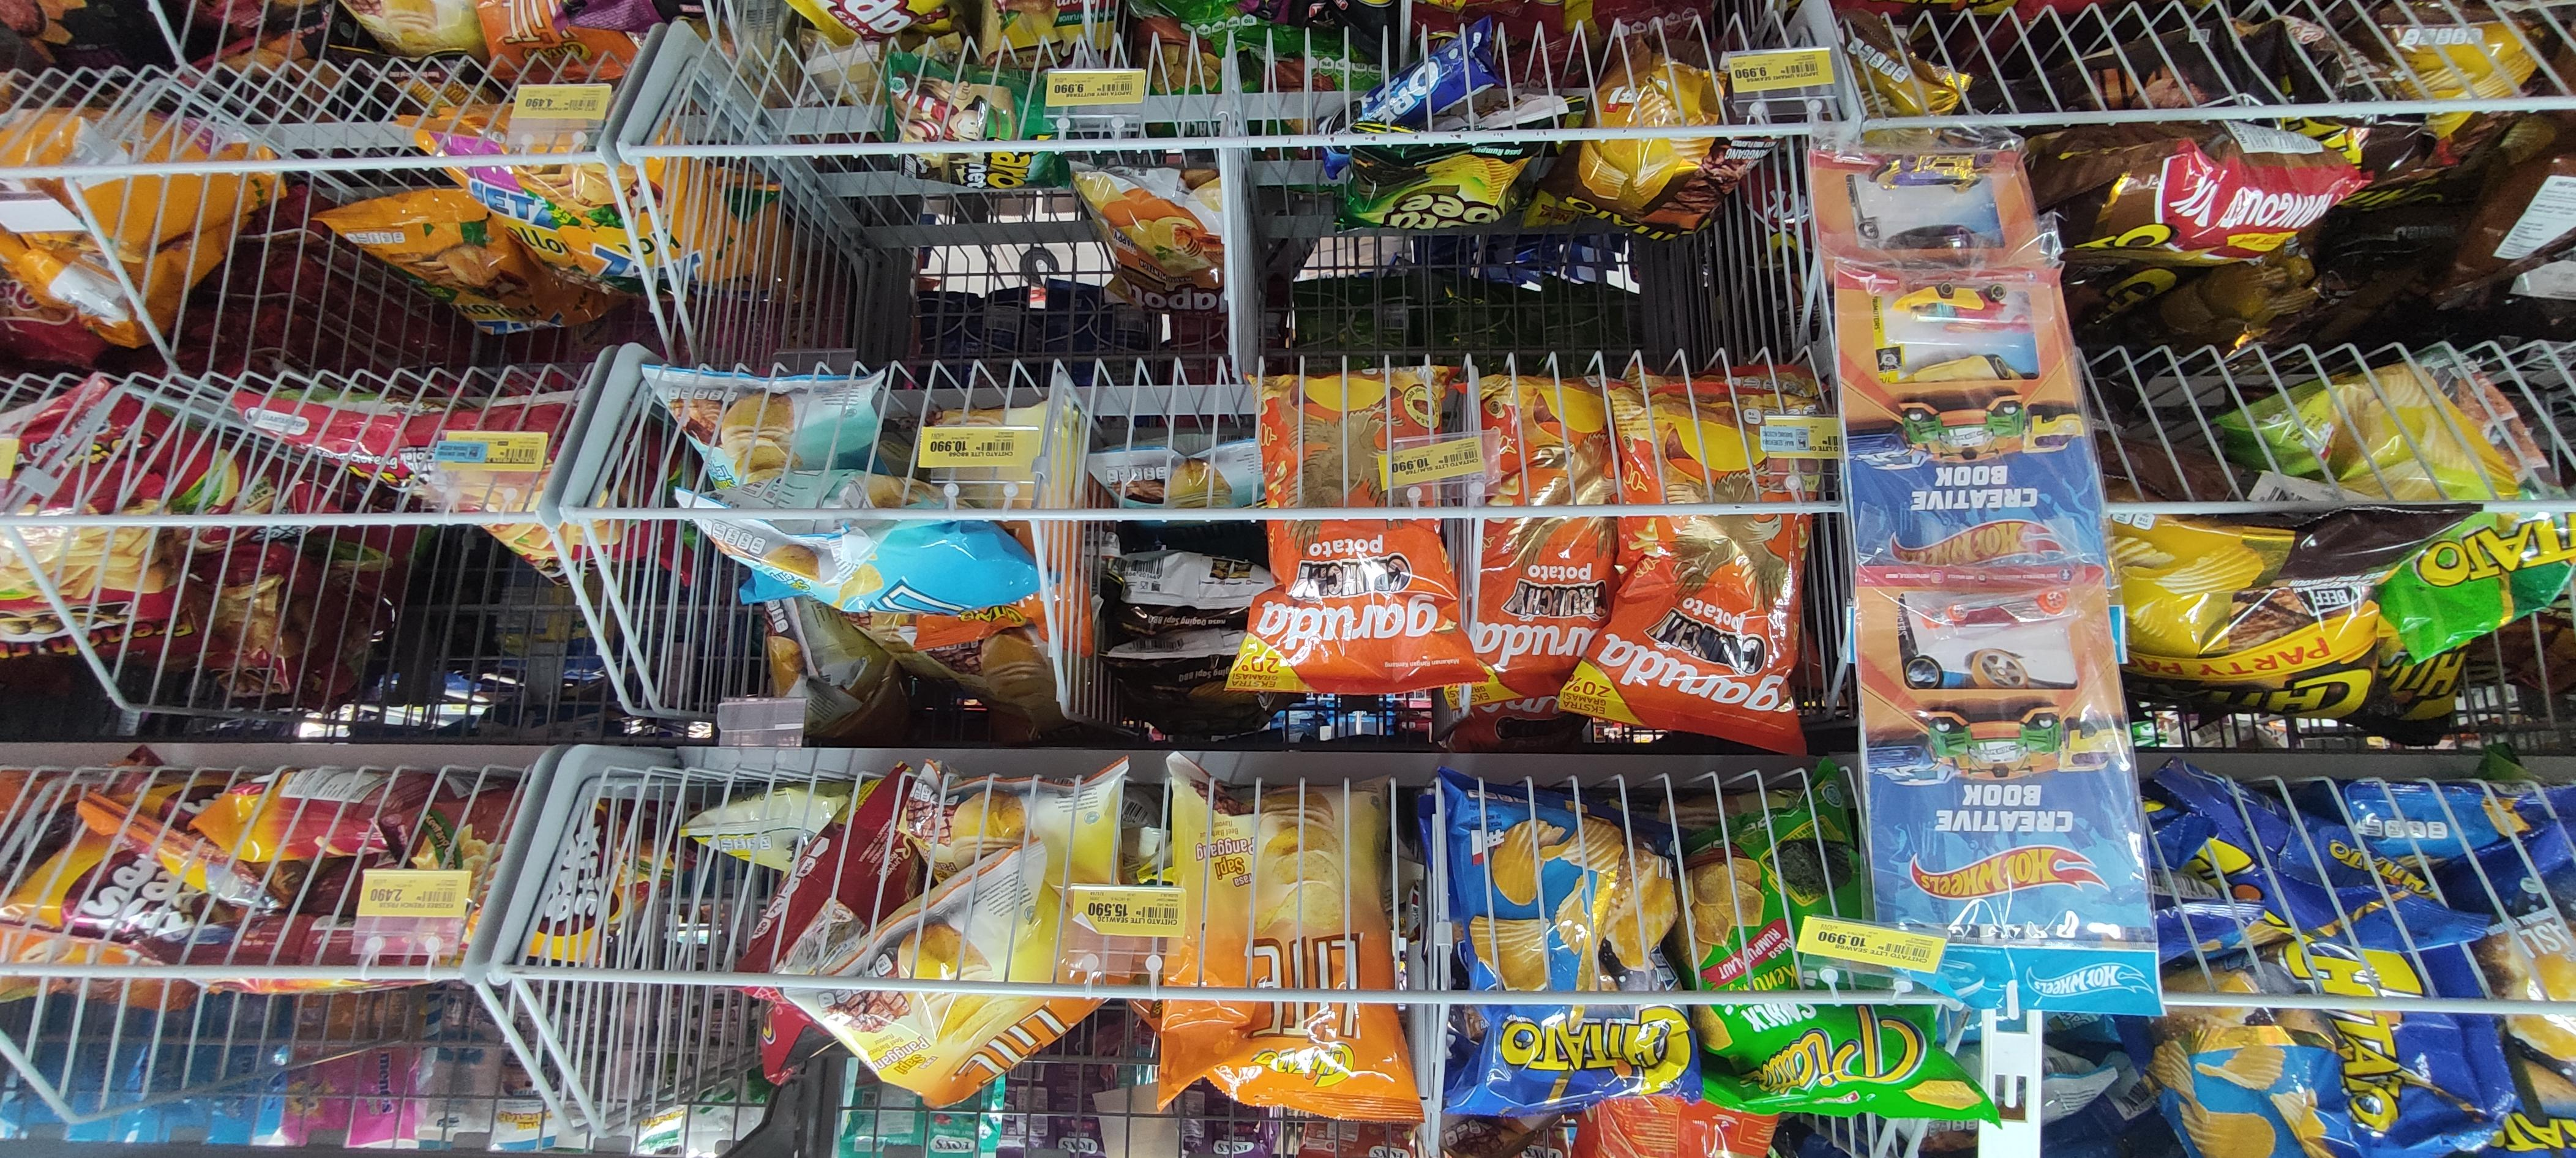90101154205100: (1227, 366, 1485, 683), (1610, 376, 1809, 741)
ChitatoLiteSapiPanggang: (1155, 756, 1418, 1115)
ChitatoOriginalFlavor: (1436, 764, 1702, 1110)
